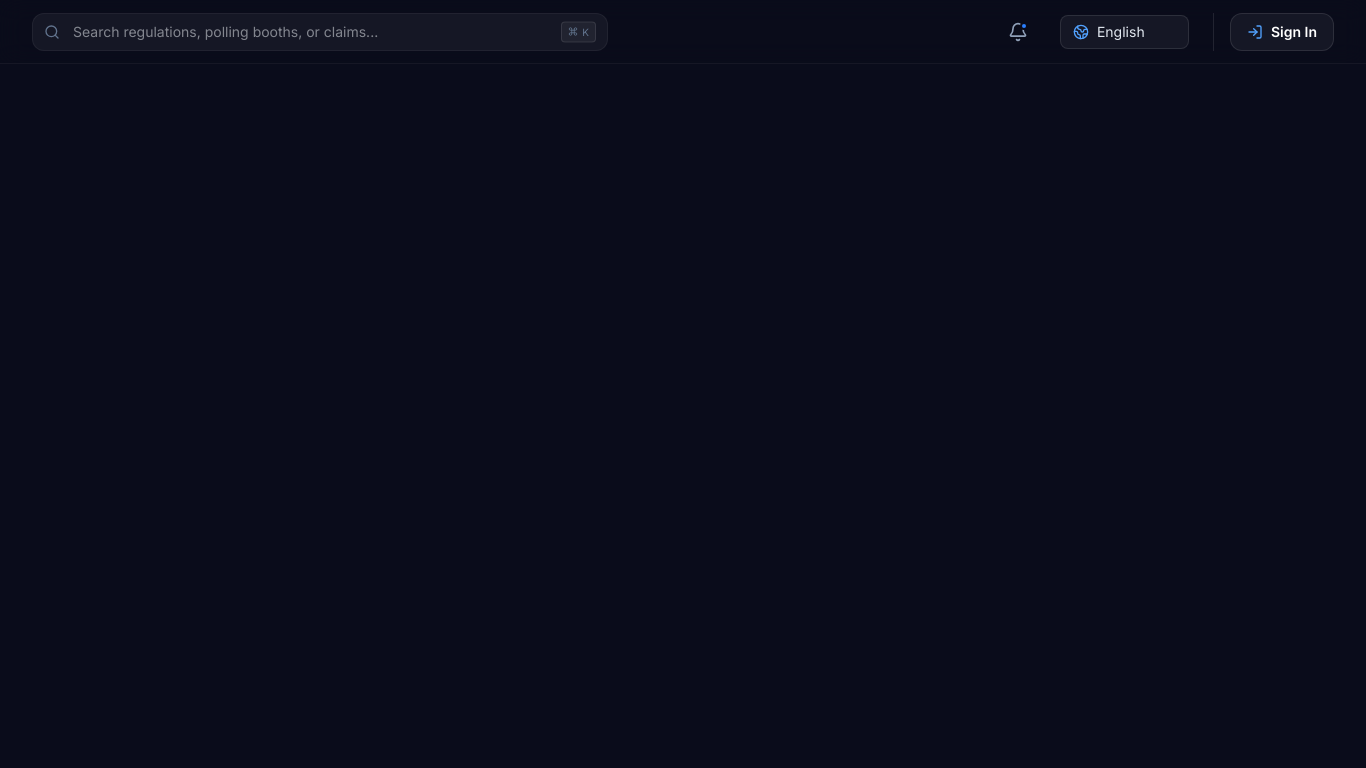
Test: Header Component › toggles the notifications dropdown and allows marking all as read
Expected: the text "Voter Registration" is not shown
// Open dropdown
What coordinates should you click on to do the following:
click the button named "View notifications"
I would click on:
 (1018, 32)
Its box is [1000,14,1036,50].
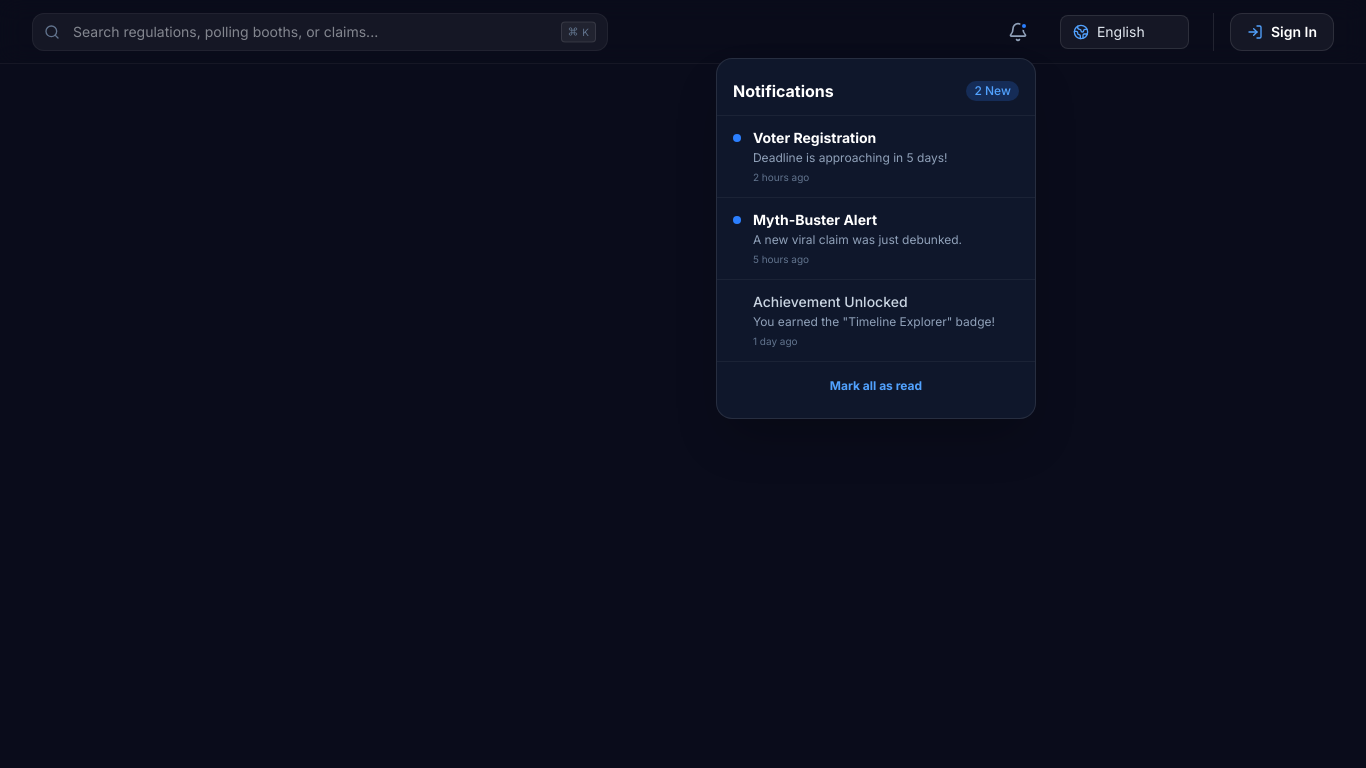
Expected: the text "Voter Registration" is shown, [753,128,876,146]
Expected: the text "Myth-Buster Alert" is shown, [753,210,877,228]
Expected: the button "Mark all as read" is enabled
What coordinates should you click on to do the following:
click the button "Mark all as read"
I would click on:
 (876, 386)
Its box is [733,370,1019,402].
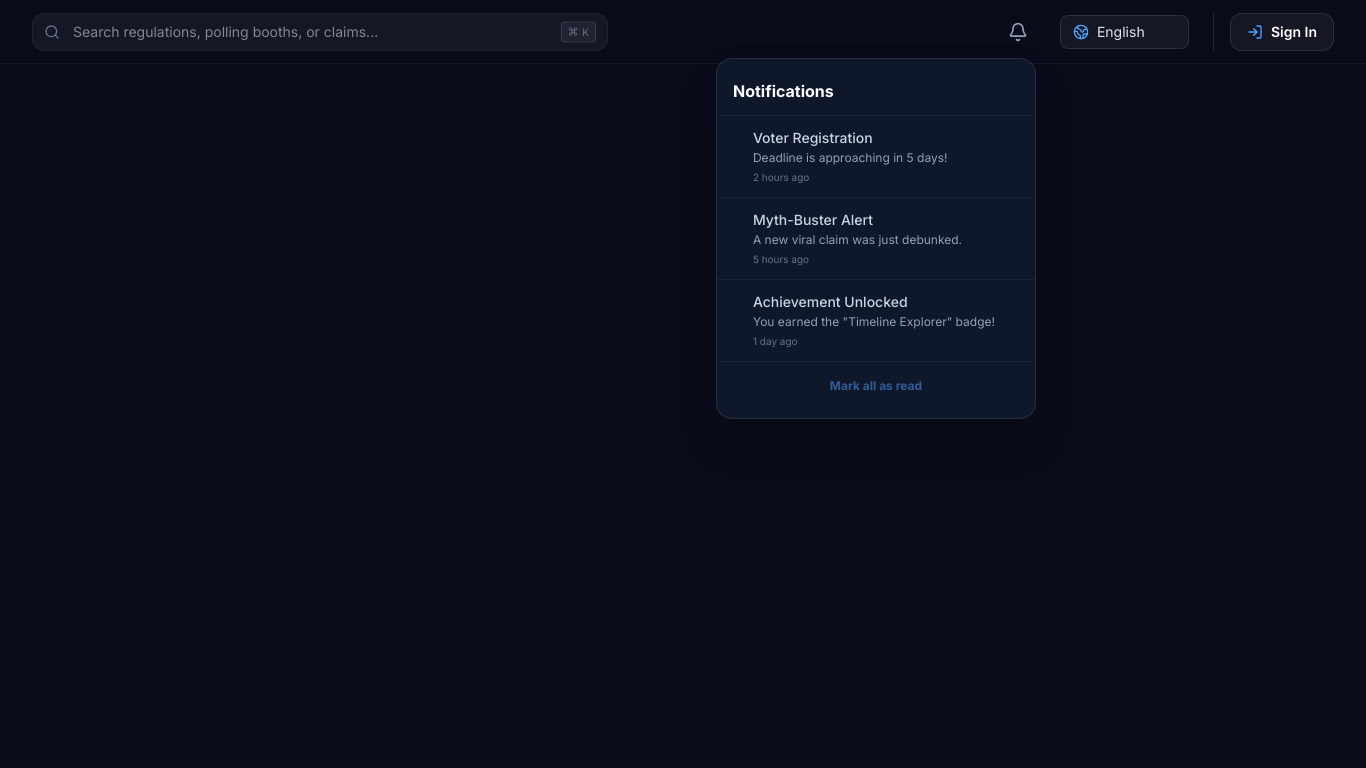
Expected: the button "Mark all as read" is disabled, [733,370,1019,402]
// Close dropdown
What coordinates should you click on to do the following:
click the button named "View notifications"
I would click on:
 (1018, 32)
Its box is [1000,14,1036,50].
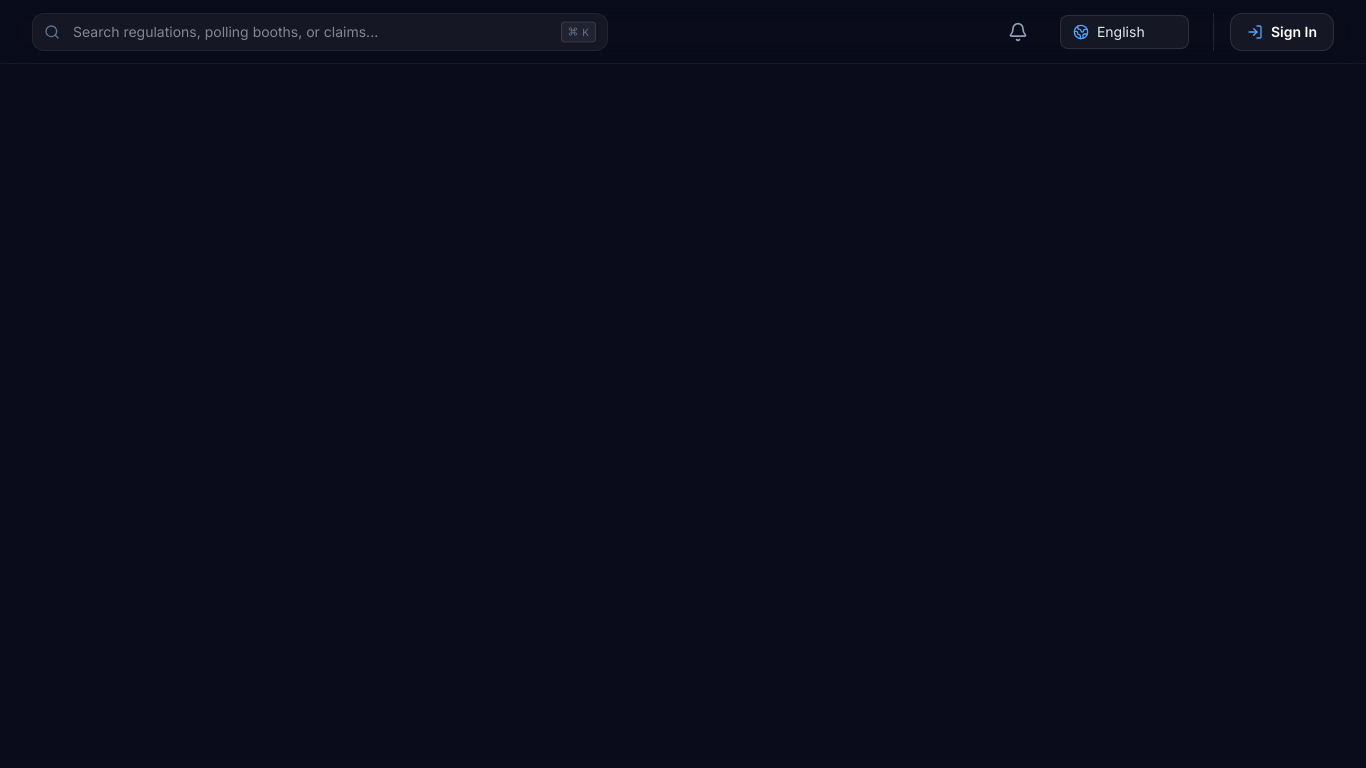
Expected: the list item "Voter Registration" is gone
